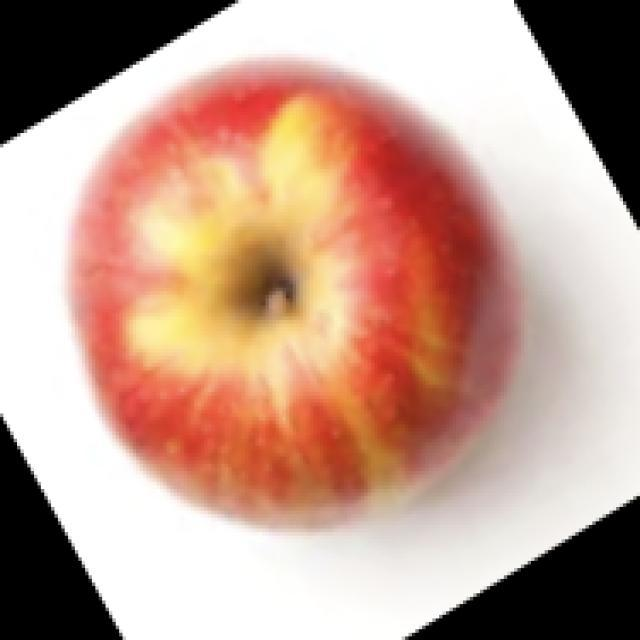Fresh Apple: (105, 85, 487, 503)
